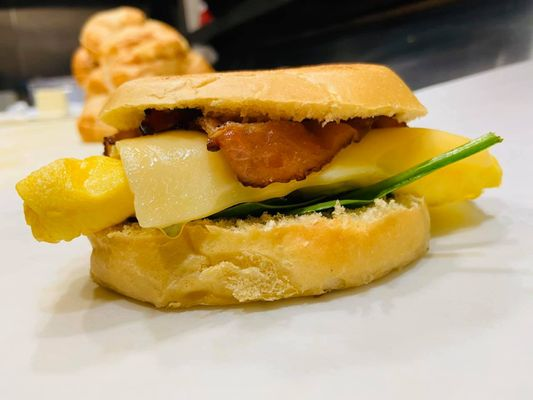soup: (22, 62, 459, 310), (71, 6, 215, 141)
